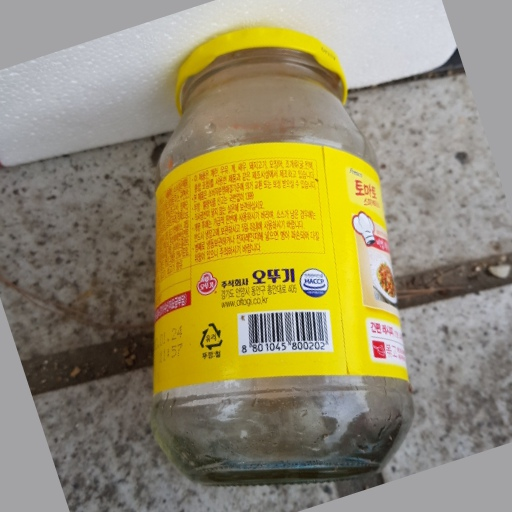Glass_5: (149, 21, 413, 478)
